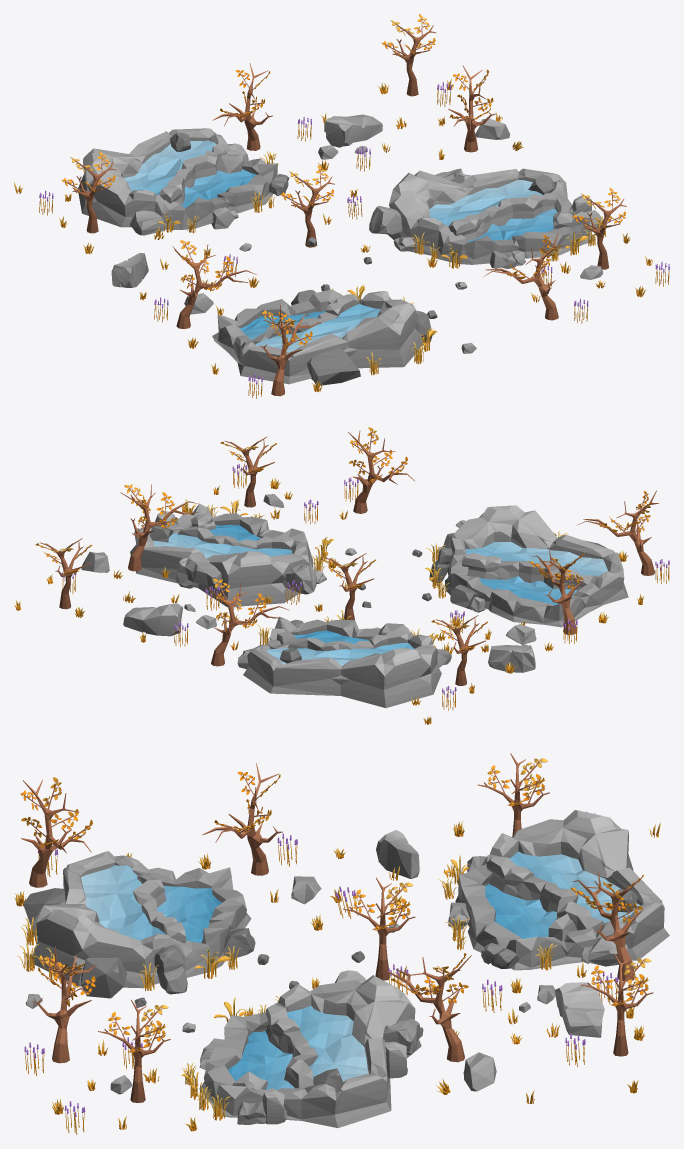
Rendered from hot_springs.glb.
3 renders of one model, top to bottom at view 1: azimuth 30°, elevation 25°; view 2: azimuth 150°, elevation 25°; view 3: azimuth 270°, elevation 25°, orthographic. The views are drawn at different scales.
Parts seen in each view (by area): view 1: hot spring 2_80, hot spring 2 (1)_62, hot spring 2 (2)_95, tree 23 (2)_67, stone small 5_65, stone small 14 (2)_55, tree 23 (1)_57, tree 23_79, tree 23 (3)_40, tree 23 (4)_86, tree 24 (3)_104, tree 24 (2)_113 (+5 smaller); view 2: hot spring 2 (2)_95, hot spring 2 (1)_62, hot spring 2_80, stone small 5_65, tree 23_79, tree 23 (3)_40, tree 23 (4)_86, tree 23 (1)_57, tree 23 (2)_67, stone small 5 (1)_99, tree 24 (3)_104, tree 24_58 (+8 smaller); view 3: hot spring 2 (1)_62, hot spring 2_80, hot spring 2 (2)_95, tree 23 (1)_57, tree 23 (3)_40, stone small 5_65, tree 23_79, tree 23 (4)_86, tree 23 (2)_67, tree 24 (2)_113, tree 24_58, tree 24 (1)_112 (+14 smaller).
Part boxes in pixels (x1,y1,x2,y2): hot spring 2_80: (387,168,594,264); hot spring 2 (1)_62: (78,128,277,229); hot spring 2 (2)_95: (212,289,423,384); tree 23 (2)_67: (172,240,256,328); stone small 5_65: (324,114,382,147); stone small 14 (2)_55: (307,348,360,385); tree 23 (1)_57: (259,305,320,396); tree 23_79: (483,233,565,320); tree 23 (3)_40: (448,65,496,152); tree 23 (4)_86: (212,63,272,150); tree 24 (3)_104: (61,151,115,233); tree 24 (2)_113: (382,14,436,96); hot spring 2 (2)_95: (445,505,628,627); hot spring 2 (1)_62: (243,616,441,707); hot spring 2_80: (130,503,313,607); stone small 5_65: (123,603,182,636); tree 23_79: (348,427,415,513); tree 23 (3)_40: (120,484,197,571); tree 23 (4)_86: (206,579,289,666); tree 23 (1)_57: (577,490,659,575); tree 23 (2)_67: (529,549,584,634); stone small 5 (1)_99: (488,644,535,672); tree 24 (3)_104: (431,615,488,685); tree 24_58: (220,436,276,507); hot spring 2 (1)_62: (455,810,669,970); hot spring 2_80: (199,975,421,1127); hot spring 2 (2)_95: (32,851,251,988); tree 23 (1)_57: (20,777,92,887); tree 23 (3)_40: (376,953,471,1062); stone small 5_65: (554,982,604,1037); tree 23_79: (32,946,97,1063); tree 23 (4)_86: (570,871,643,981); tree 23 (2)_67: (202,763,282,875); tree 24 (2)_113: (581,953,653,1056); tree 24_58: (98,999,170,1102); tree 24 (1)_112: (343,877,415,980).
Bounding box in the file's own units: 17.73 × 4.72 × 17.61.
Materials: 1 (1 with a texture image).
